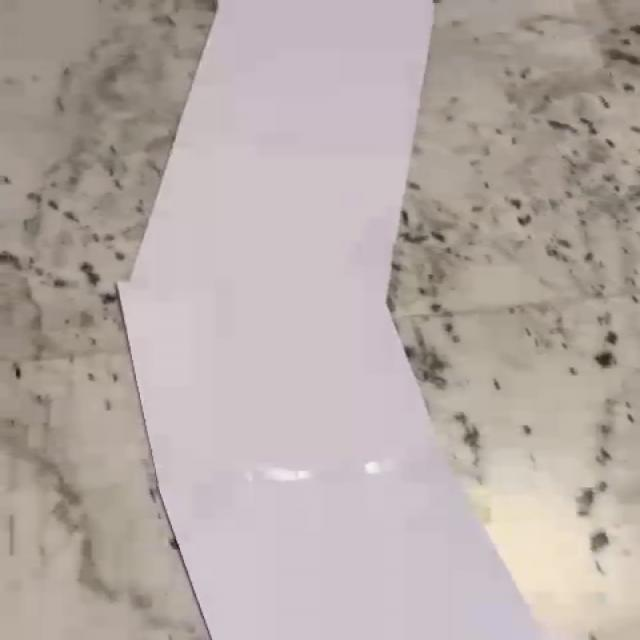road: (116, 0, 551, 640)
